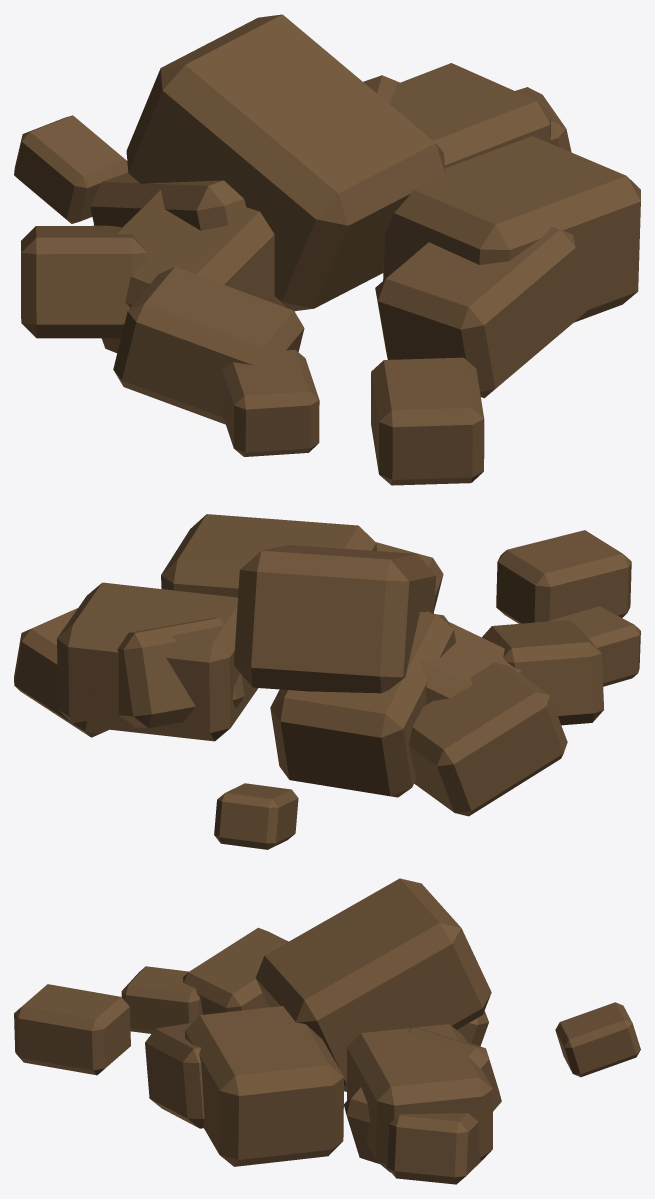
The model's file is prop_rubble4_2e71.glb.
The picture shows the model from 3 angles, top to bottom: view 1: azimuth 30°, elevation 25°; view 2: azimuth 150°, elevation 25°; view 3: azimuth 270°, elevation 25°; orthographic projection. The views are drawn at different scales.
Visible parts, largest first — view 1: prop_rubble4_2e71; view 2: prop_rubble4_2e71; view 3: prop_rubble4_2e71.
Boxes of the visible parts, left/top/right/bottom form: prop_rubble4_2e71: left=14, top=14, right=640, bottom=485; prop_rubble4_2e71: left=14, top=514, right=640, bottom=849; prop_rubble4_2e71: left=14, top=878, right=640, bottom=1184.
Size of the model in its own units: 0.832 by 0.3469 by 1.04.
1 material, 1 textured.
